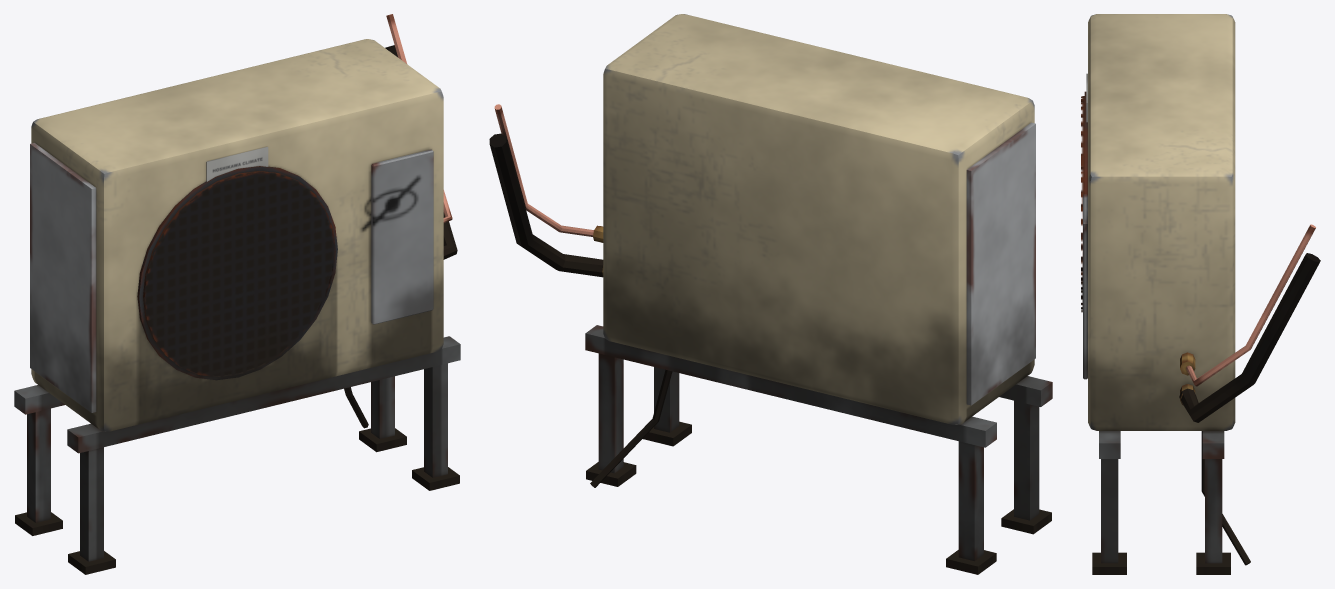
The model's file is ac_unit.glb.
The picture shows the model from 3 angles, left to right: view 1: azimuth 30°, elevation 25°; view 2: azimuth 150°, elevation 25°; view 3: azimuth 270°, elevation 25°; orthographic projection. The views are drawn at different scales.
Parts seen in each view (by area): view 1: ac_unit; view 2: ac_unit; view 3: ac_unit.
Part boxes in pixels (x1=…): ac_unit: x1=14, y1=14, x2=460, y2=574; ac_unit: x1=489, y1=14, x2=1052, y2=574; ac_unit: x1=1081, y1=14, x2=1320, y2=574.
Size of what is drawn, in the model's own units: 1.14 by 1 by 0.5537.
Materials: 1 (1 with a texture image).
